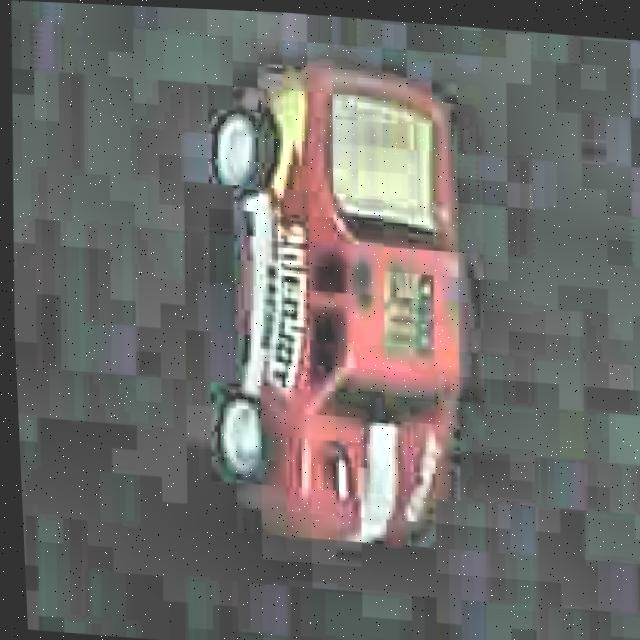car: (193, 53, 486, 554)
